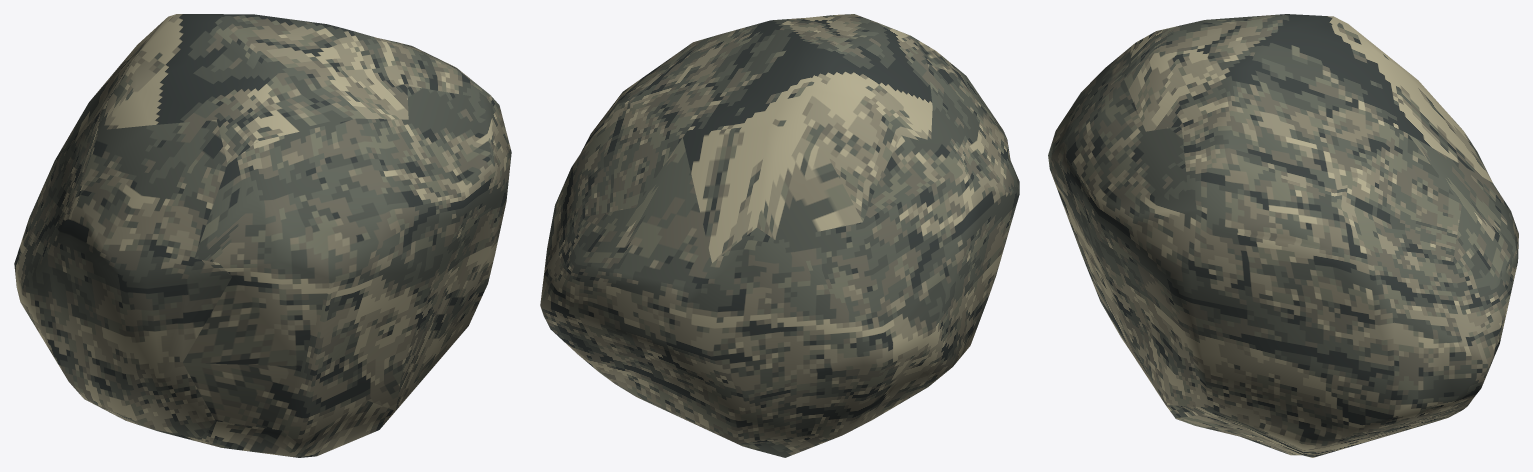
File: rockLarge03.fbx
The picture shows the model from 3 angles, left to right: view 1: azimuth 30°, elevation 25°; view 2: azimuth 150°, elevation 25°; view 3: azimuth 270°, elevation 25°; orthographic projection. The views are drawn at different scales.
Parts seen in each view (by area): view 1: RockLarge3; view 2: RockLarge3; view 3: RockLarge3.
Part boxes in pixels (x1,y1,x2,y2): RockLarge3: [14, 14, 511, 457]; RockLarge3: [540, 14, 1019, 457]; RockLarge3: [1048, 14, 1518, 457].
Bounding box in the file's own units: 75.1 × 73.22 × 78.45.
